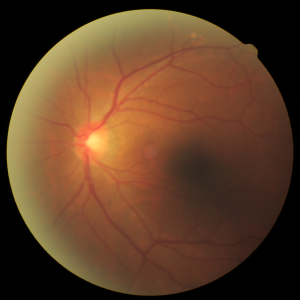cataract: (46, 89, 251, 205)
